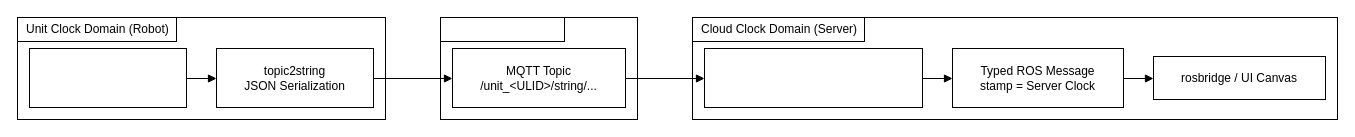
Image size: 1355x137. Some labels were removed from this diagram. Each missing label, with the centre of its shape:
"BoundaryPublisher Restamp to Server ROS Clock" goes at (x=813, y=78).
"Encrypted Transport" goes at (x=502, y=29).
"ROS Message stamp = Unit Clock" goes at (x=107, y=78).
